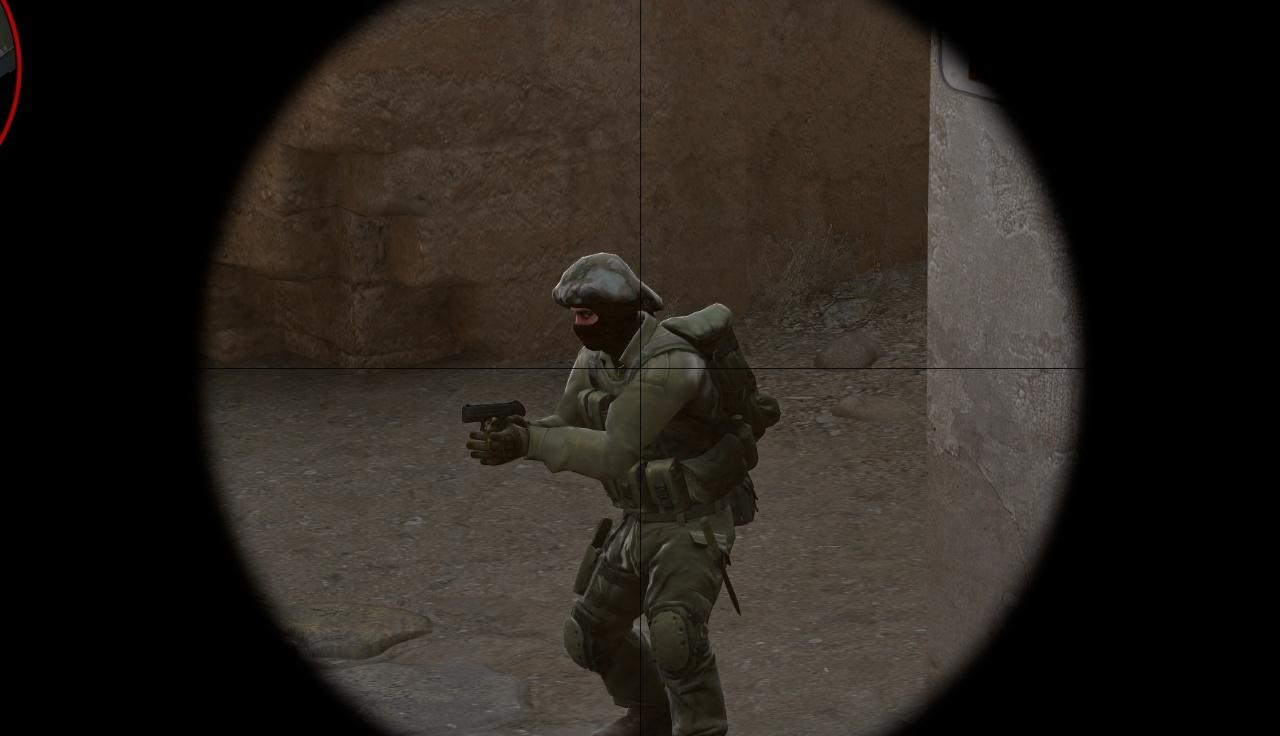ct: (459, 253, 764, 736)
cthead: (556, 253, 637, 353)
